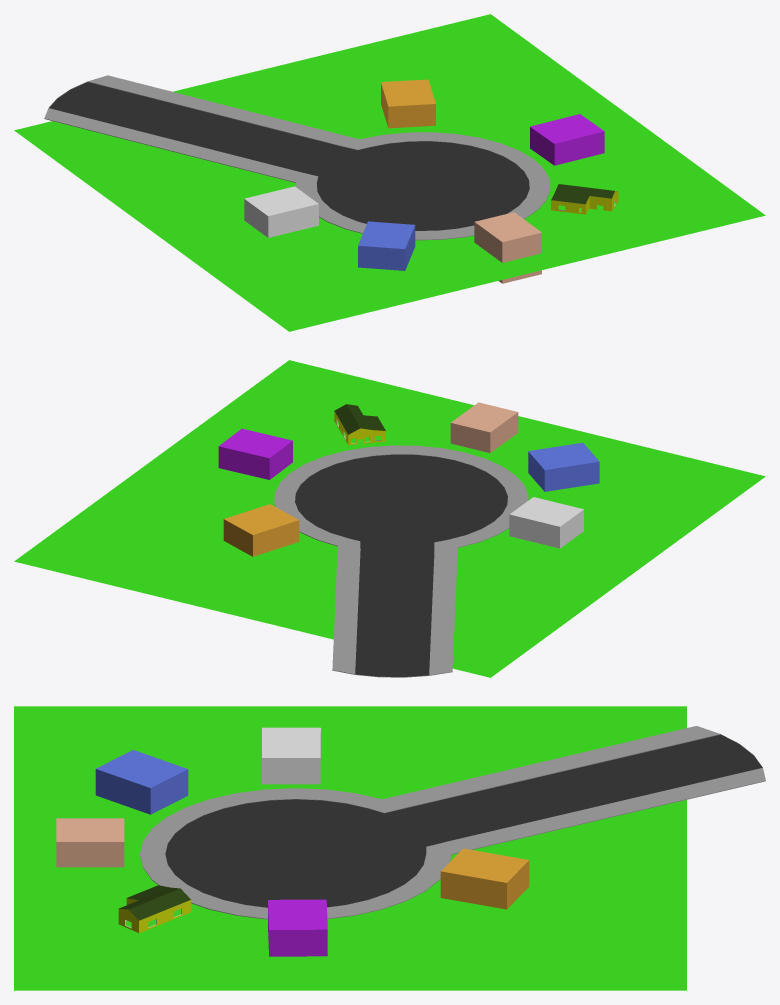
Rendered from map.glb.
The picture shows the model from 3 angles, top to bottom: view 1: azimuth 30°, elevation 25°; view 2: azimuth 150°, elevation 25°; view 3: azimuth 270°, elevation 25°; orthographic projection. The views are drawn at different scales.
Visible parts, largest first — view 1: Ground, CulDeSac, NeighborHouseC-col, NeighborHouseE-col, NeighborHouseA-col, NeighborHouseB-col, NeighborHouseD-col, PlayerHouse-col; view 2: Ground, CulDeSac, NeighborHouseD-col, NeighborHouseE-col, NeighborHouseC-col, NeighborHouseB-col, NeighborHouseA-col, PlayerHouse-col; view 3: Ground, CulDeSac, NeighborHouseB-col, NeighborHouseD-col, NeighborHouseA-col, NeighborHouseC-col, NeighborHouseE-col, PlayerHouse-col.
Part boxes in pixels (x1,y1,x2,y2): Ground: (14,14,765,331); CulDeSac: (44,75,550,240); NeighborHouseC-col: (530,114,604,165); NeighborHouseE-col: (244,186,318,237); NeighborHouseA-col: (474,212,541,283); NeighborHouseB-col: (358,221,415,270); NeighborHouseD-col: (381,79,435,128); PlayerHouse-col: (551,184,618,214); Ground: (14,360,765,677); CulDeSac: (274,445,528,677); NeighborHouseD-col: (223,504,299,556); NeighborHouseE-col: (509,497,583,548); NeighborHouseC-col: (218,428,292,479); NeighborHouseB-col: (528,442,599,491); NeighborHouseA-col: (450,402,518,453); PlayerHouse-col: (334,404,385,445); Ground: (14,706,686,990); CulDeSac: (140,726,765,919); NeighborHouseB-col: (95,750,188,814); NeighborHouseD-col: (440,848,529,909); NeighborHouseA-col: (56,818,124,867); NeighborHouseC-col: (268,899,327,956); NeighborHouseE-col: (262,727,320,784); PlayerHouse-col: (118,885,191,932).
Size of the model in its own units: 2000 by 174 by 2234.
